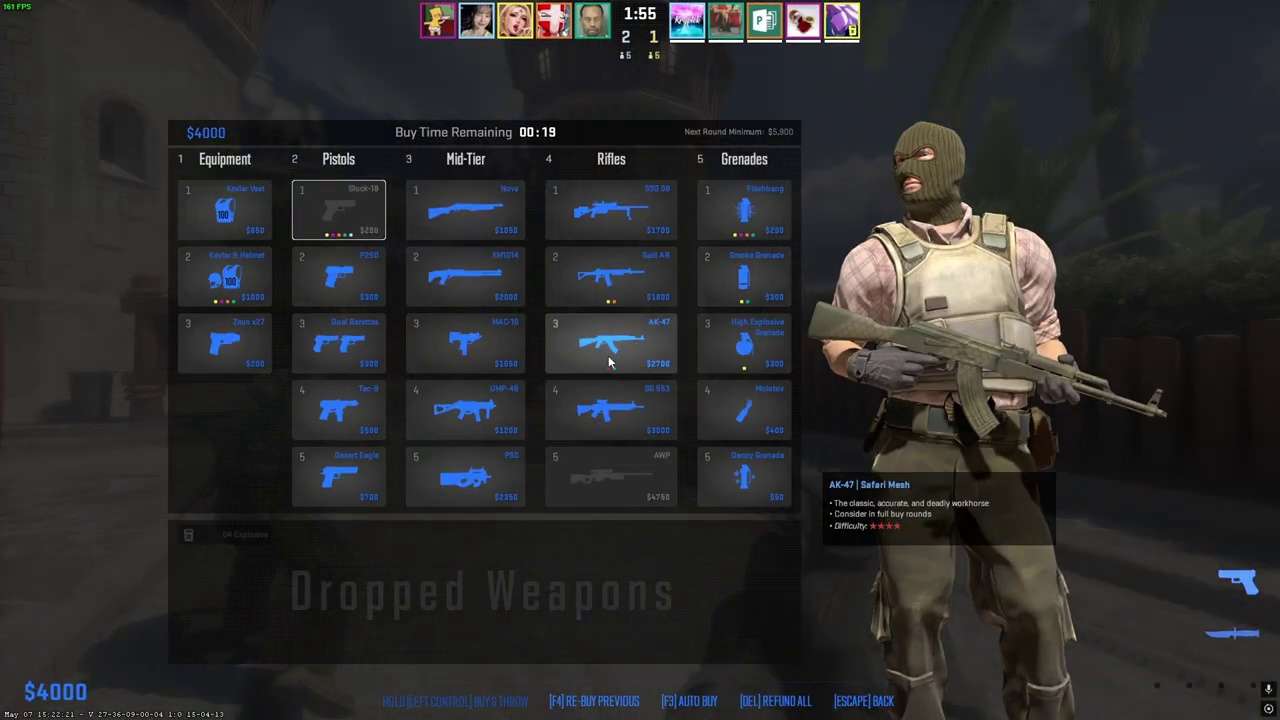Terrorist: (850, 122, 1078, 720)
